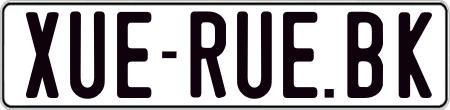B: (345, 10, 387, 98)
E: (115, 12, 154, 103), (283, 11, 322, 101)
K: (396, 9, 430, 98)
R: (187, 8, 225, 101)
U: (236, 10, 277, 98), (69, 11, 105, 105)
X: (25, 11, 58, 98)
